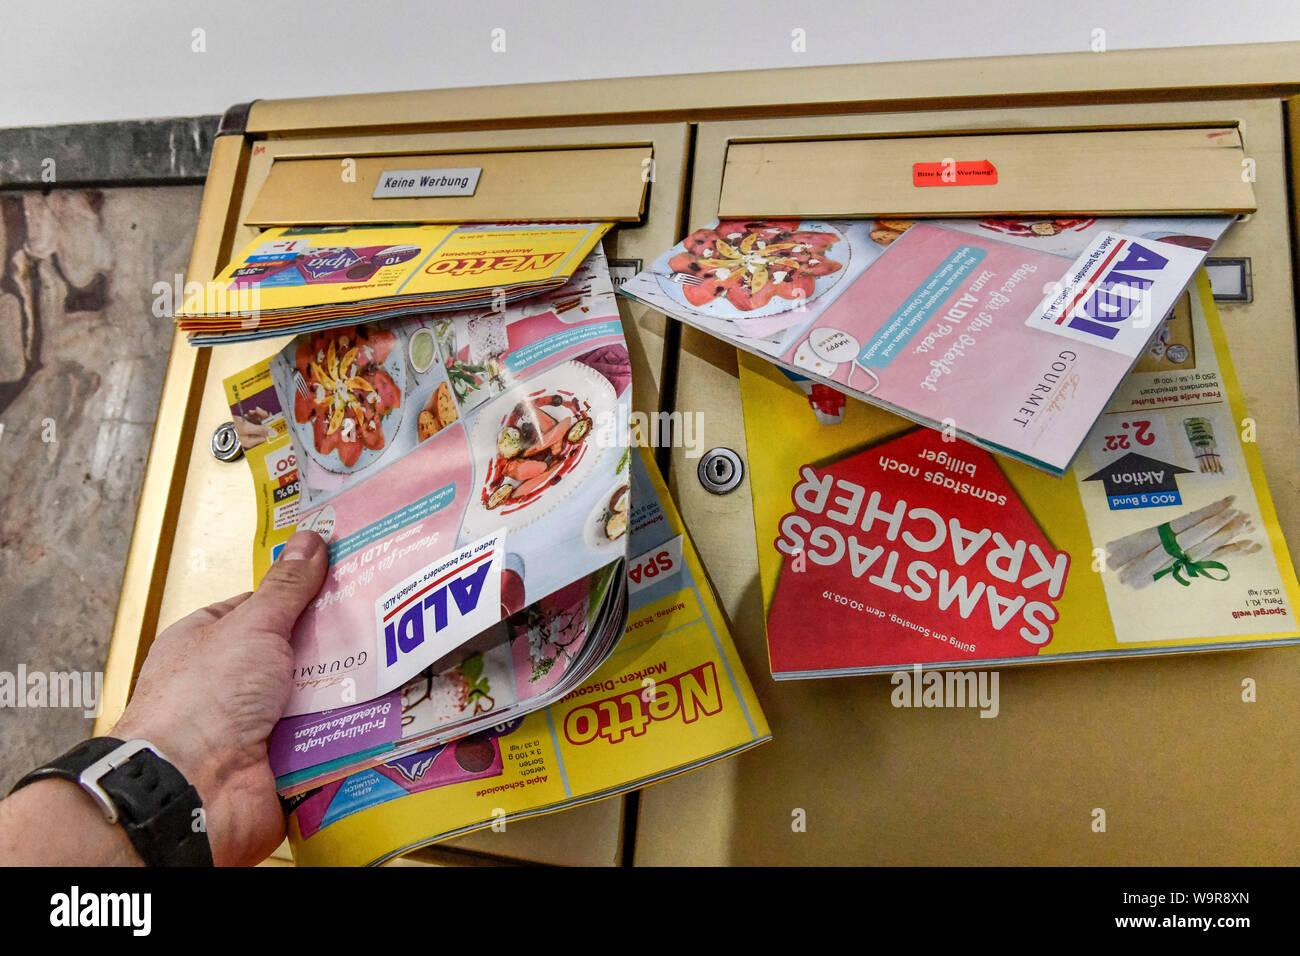paper: (652, 215, 1297, 669), (175, 222, 609, 318)
